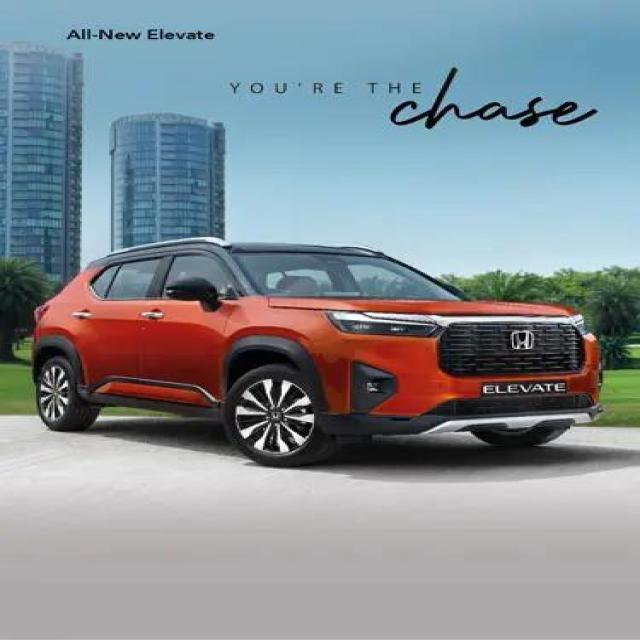cars11: (33, 233, 610, 471)
